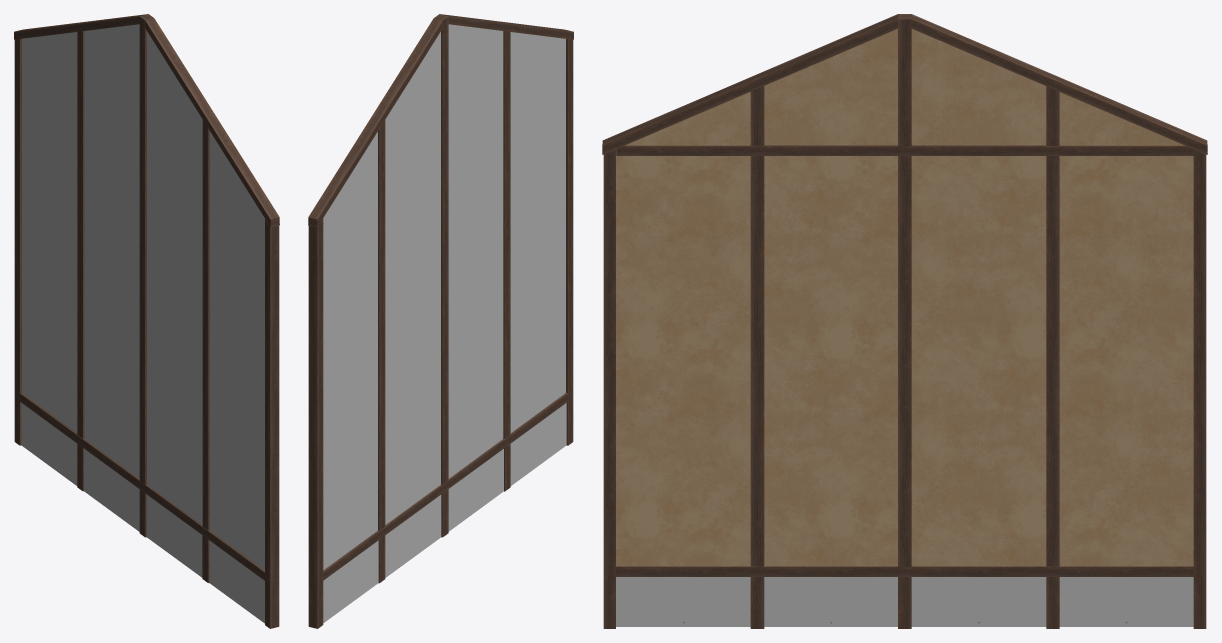
File: yane_frame_4t_a12f_6.fbx
3 renders of one model, left to right at view 1: azimuth 30°, elevation 25°; view 2: azimuth 150°, elevation 25°; view 3: azimuth 270°, elevation 25°, orthographic. The views are drawn at different scales.
Parts seen in each view (by area): view 1: yane_frame_4t_a12f_6; view 2: yane_frame_4t_a12f_6; view 3: yane_frame_4t_a12f_6.
Boxes of the visible parts, x1=… form: yane_frame_4t_a12f_6: x1=14, y1=14, x2=279, y2=628; yane_frame_4t_a12f_6: x1=308, y1=14, x2=573, y2=628; yane_frame_4t_a12f_6: x1=602, y1=14, x2=1207, y2=628.
Size of the model in its own units: 18.5 by 1003 by 902.
